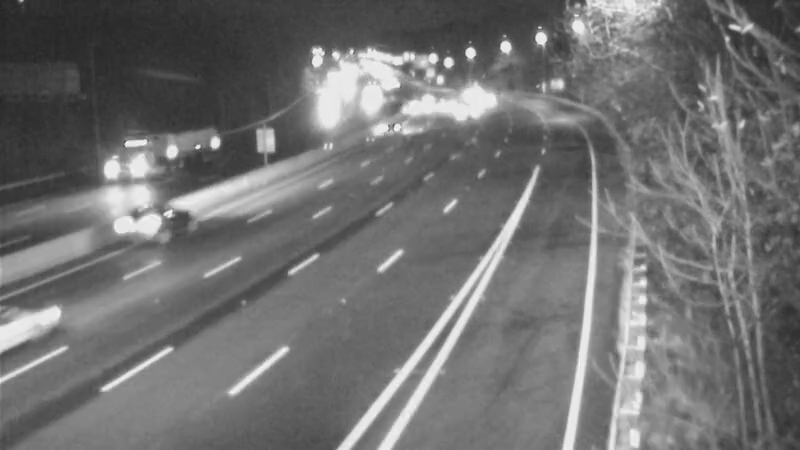vehicle: (1, 272, 90, 382), (104, 183, 184, 263), (136, 119, 216, 199), (391, 80, 441, 130), (435, 87, 485, 137), (455, 80, 505, 130), (373, 100, 423, 150), (346, 78, 396, 128)
